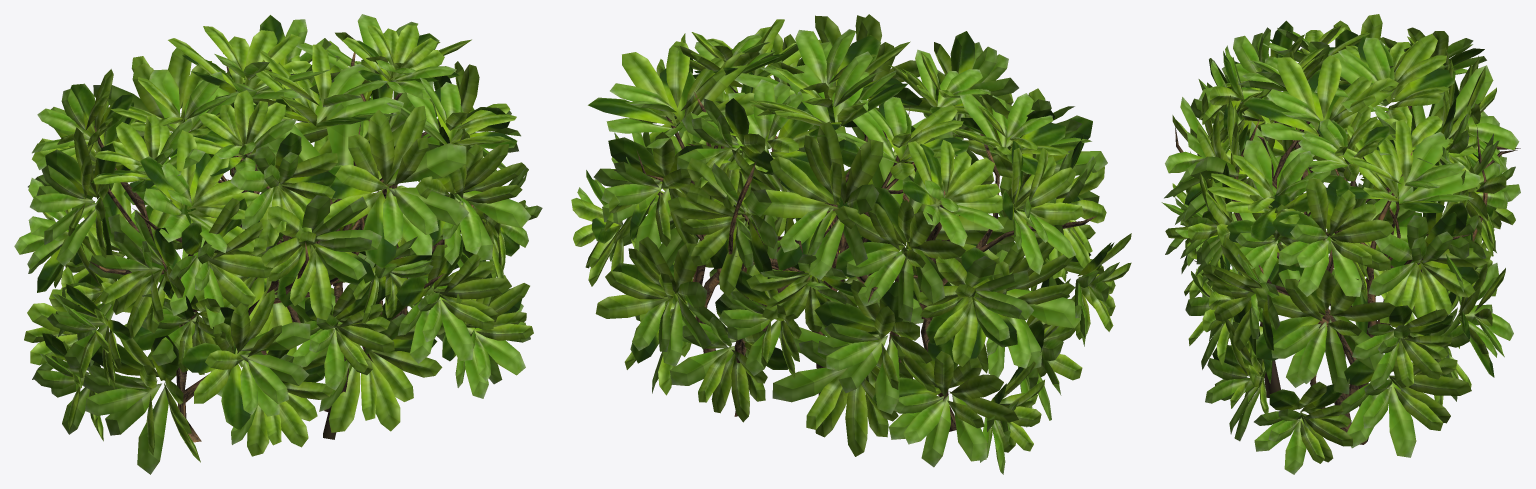
File: sweethome3d-scopia-hedge-338.glb
3 views of the same model, side by side, from view 1: azimuth 30°, elevation 25°; view 2: azimuth 150°, elevation 25°; view 3: azimuth 270°, elevation 25° (orthographic). The views are drawn at different scales.
Parts seen in each view (by area): view 1: leaves_Plane.020, branches_stems_1.003; view 2: leaves_Plane.020, branches_stems_1.003; view 3: leaves_Plane.020, branches_stems_1.003.
Part boxes in pixels (x1,y1,x2,y2): leaves_Plane.020: (14, 14, 542, 474); branches_stems_1.003: (89, 52, 473, 442); leaves_Plane.020: (571, 14, 1131, 474); branches_stems_1.003: (614, 75, 1097, 431); leaves_Plane.020: (1161, 14, 1520, 474); branches_stems_1.003: (1175, 90, 1520, 444).
Size of the model in its own units: 151 by 106 by 105.
Materials: 2 (2 with a texture image).
